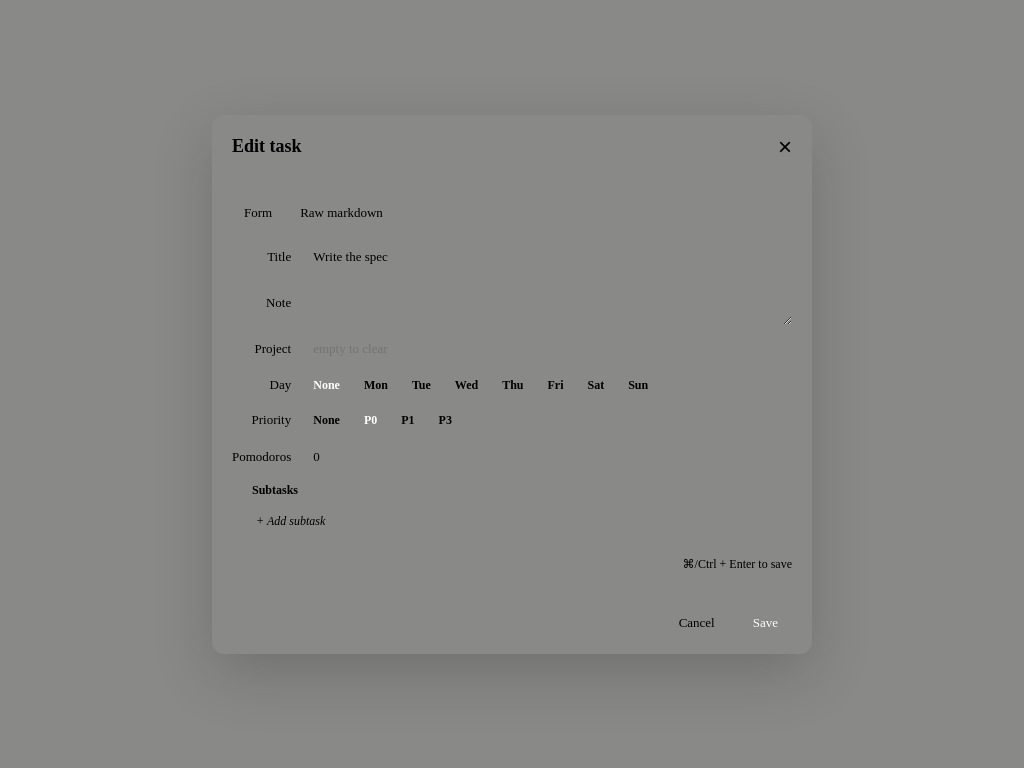
Scenario: TaskEditModal (slice 6e) › switching to Raw markdown shows a textarea pre-filled from the form state
The image size is (1024, 768).
Click the tab with test id "task-edit-tab-raw" at (342, 212), box [288, 198, 395, 226]
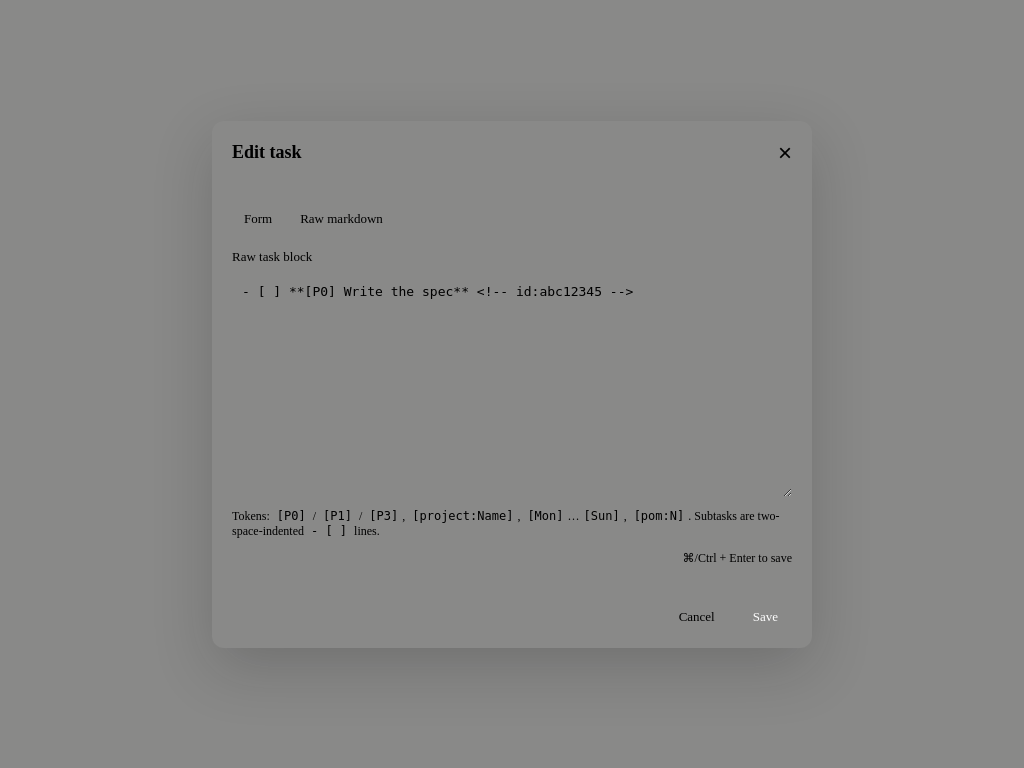
Expected: the text box with test id "task-edit-raw" is shown, [232, 276, 792, 496]
